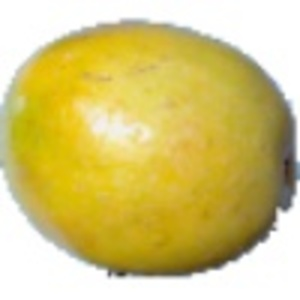maracujá: (1, 18, 300, 279)
